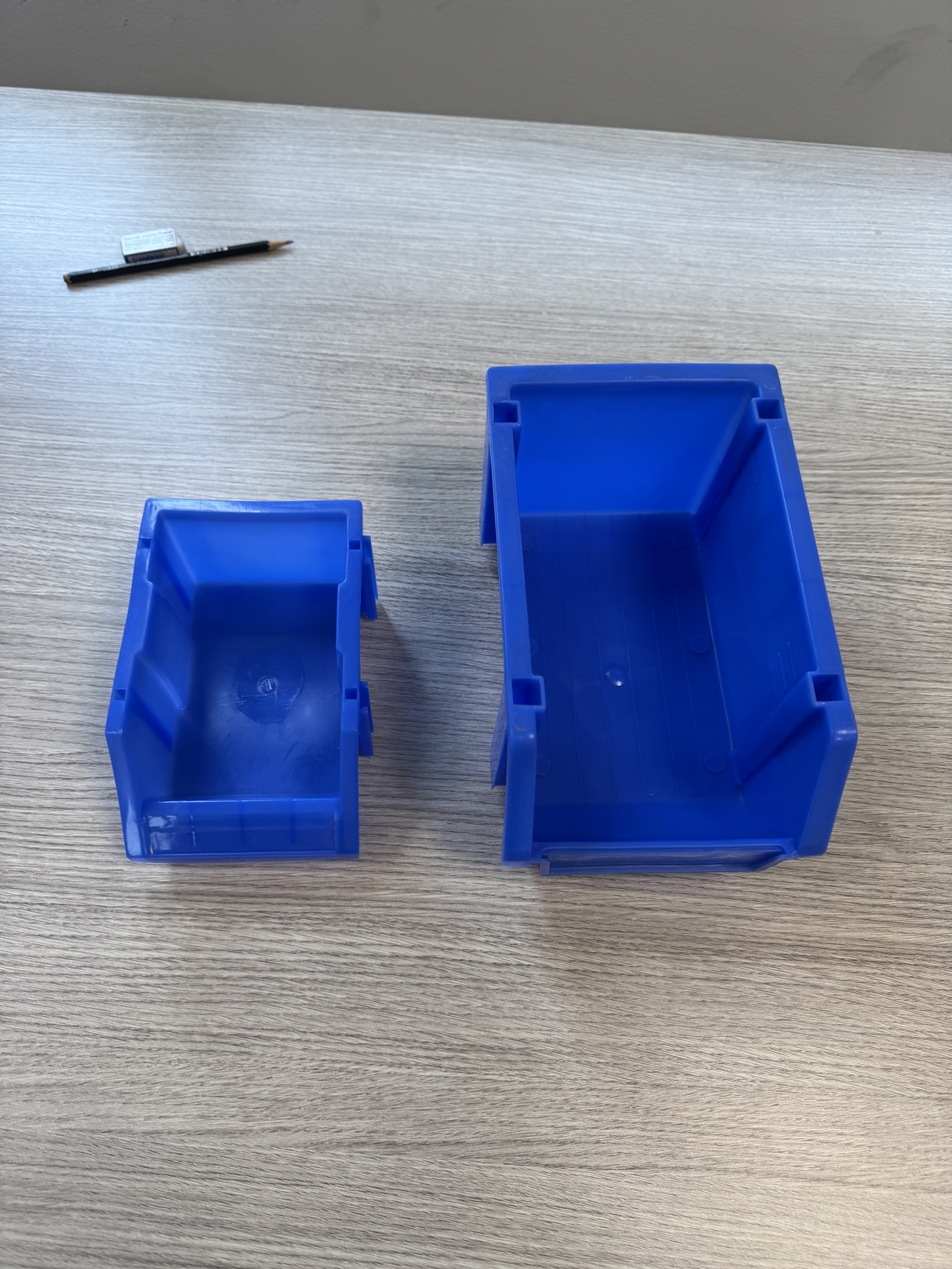Bin Boundary: (514, 372, 835, 849), (122, 511, 348, 804)
